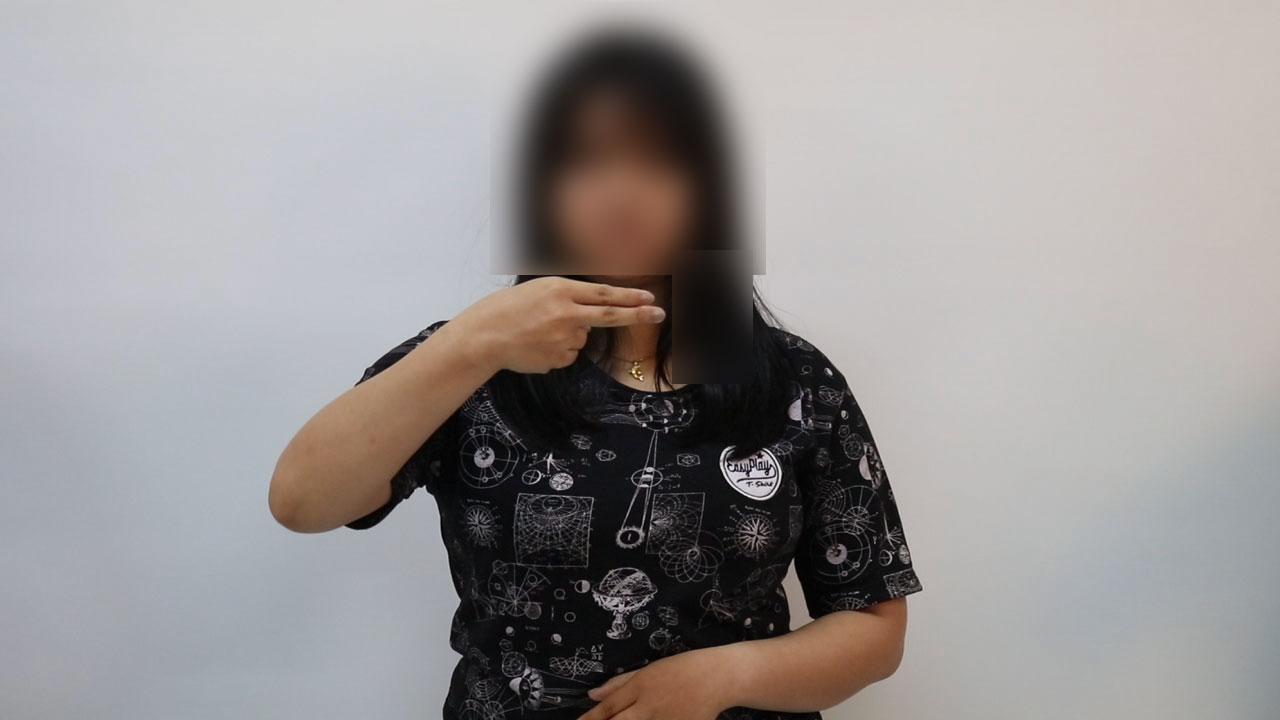hor: (440, 267, 685, 389)
